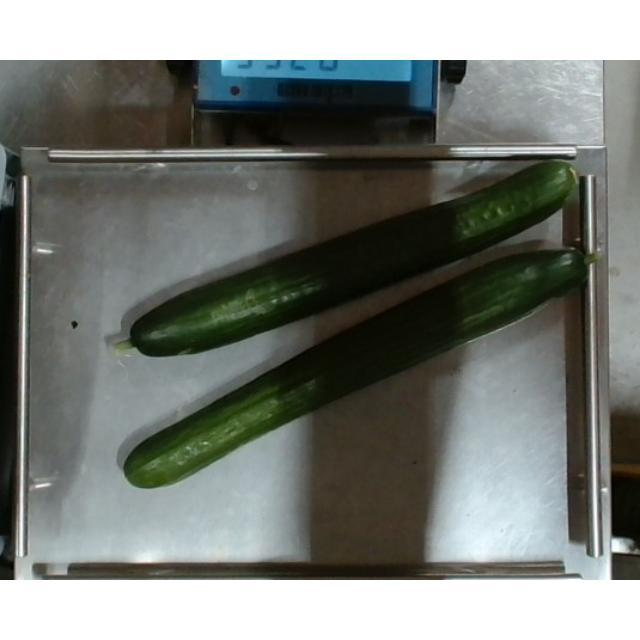cucumber: (121, 246, 598, 492), (111, 159, 598, 359)
